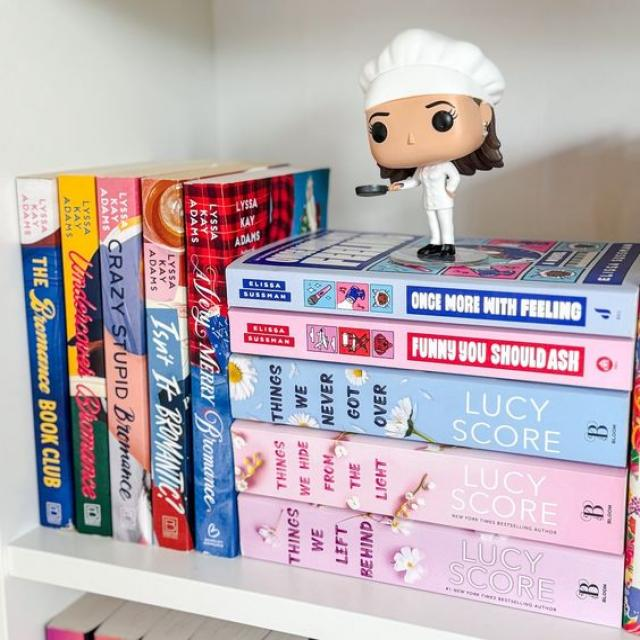book: (235, 421, 622, 553), (241, 496, 621, 624), (229, 355, 629, 466), (230, 310, 631, 389), (226, 268, 640, 335), (97, 179, 155, 542), (16, 175, 73, 526), (141, 177, 194, 554), (58, 179, 113, 536), (186, 183, 236, 558)
figurine: (356, 29, 504, 259)
